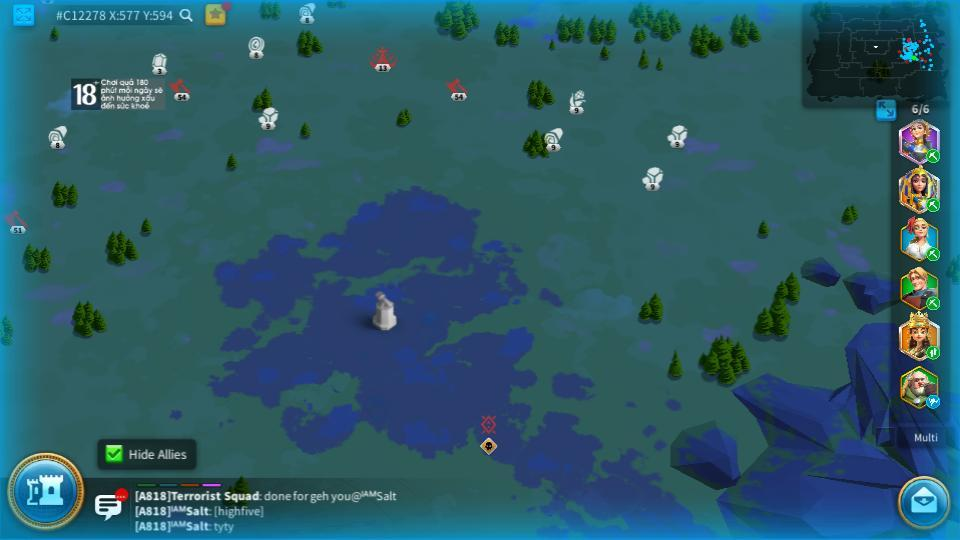gem-z-out: (149, 52, 170, 74)
march_farming: (924, 197, 939, 212), (924, 149, 939, 162)
march_idle: (925, 395, 941, 407)
march_marching: (925, 347, 941, 359)
